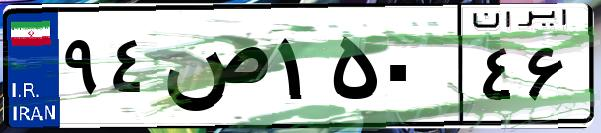0: (385, 28, 445, 110)
1: (270, 28, 330, 110)
4: (475, 38, 525, 113), (110, 28, 158, 98)
5: (330, 28, 385, 110)
6: (525, 38, 570, 115)
9: (57, 26, 110, 100)
ص: (158, 20, 270, 120)
